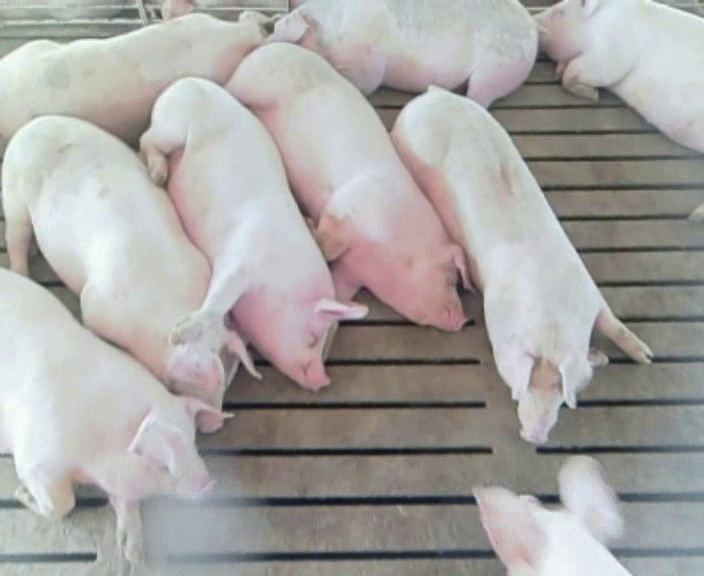pig: (391, 87, 652, 443), (140, 78, 366, 389), (272, 2, 537, 106), (473, 456, 629, 574)
